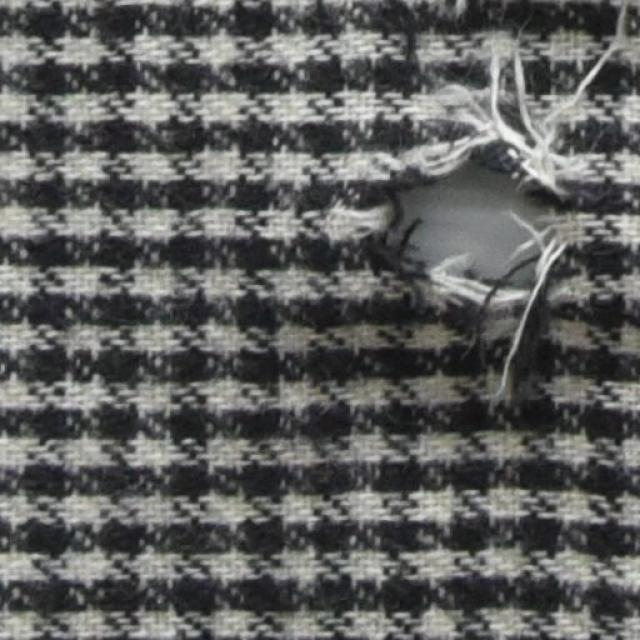Hole: (401, 162, 545, 278)
Snag: (425, 29, 617, 186), (491, 236, 577, 408)
